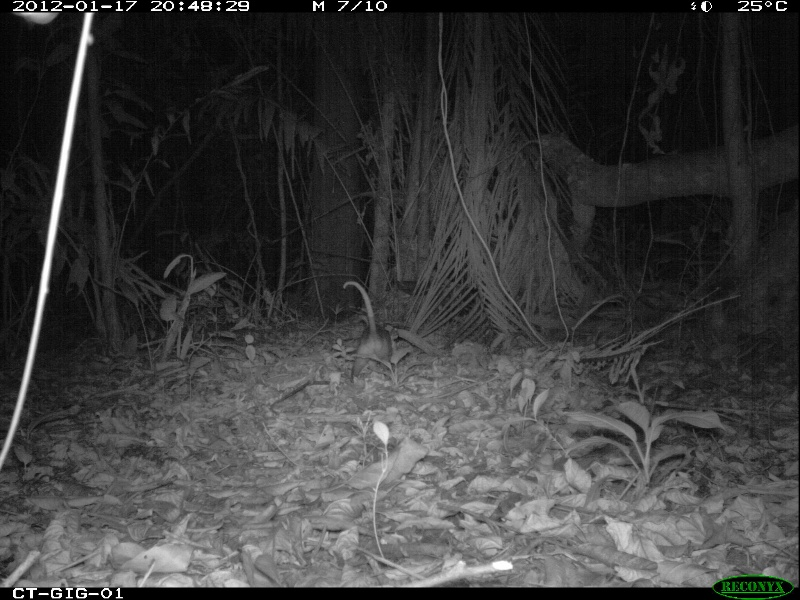opossum: (336, 276, 401, 386)
